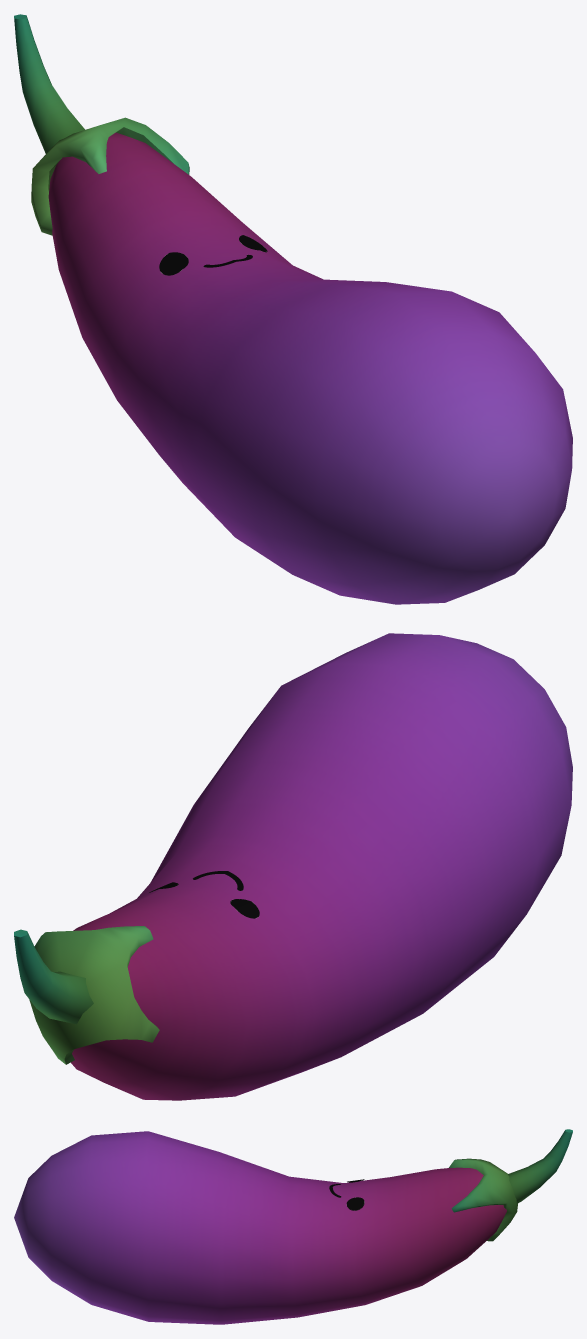
File: eggplant_smile.fbx
3 renders of one model, top to bottom at view 1: azimuth 30°, elevation 25°; view 2: azimuth 150°, elevation 25°; view 3: azimuth 270°, elevation 25°, orthographic. The views are drawn at different scales.
Visible parts, largest first — view 1: eggplant; view 2: eggplant; view 3: eggplant.
Boxes of the visible parts, x1=… form: eggplant: x1=14, y1=14, x2=572, y2=604; eggplant: x1=14, y1=633, x2=572, y2=1100; eggplant: x1=14, y1=1129, x2=572, y2=1324.
Size of the model in its own units: 52.57 by 151 by 54.64.
